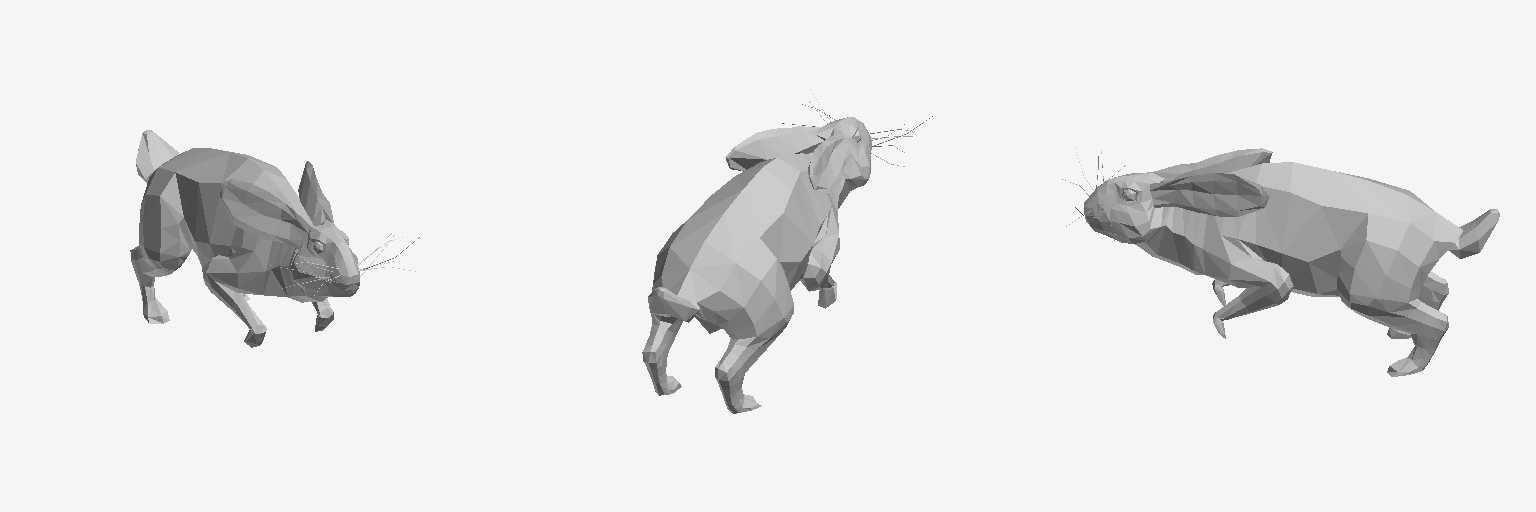
File: rabbit_000001.obj
3 renders of one model, left to right at view 1: azimuth 30°, elevation 25°; view 2: azimuth 150°, elevation 25°; view 3: azimuth 270°, elevation 25°, orthographic.
Parts seen in each view (by area): view 1: Rabbit_Cylinder; view 2: Rabbit_Cylinder; view 3: Rabbit_Cylinder.
Boxes of the visible parts, x1,y1,x2,y2 form: Rabbit_Cylinder: [130, 130, 419, 347]; Rabbit_Cylinder: [642, 89, 932, 413]; Rabbit_Cylinder: [1062, 148, 1499, 376].
Bounding box in the file's own units: 6.99 × 10.26 × 20.81.